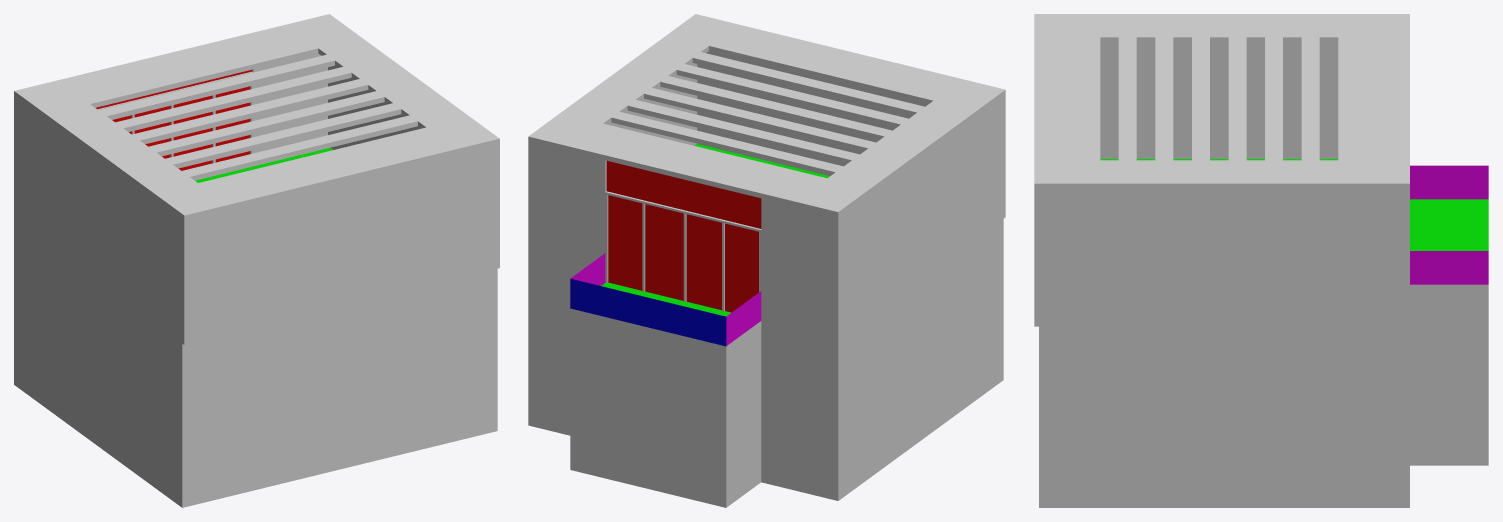
File: Garage.fbx
The picture shows the model from 3 angles, left to right: view 1: azimuth 30°, elevation 25°; view 2: azimuth 150°, elevation 25°; view 3: azimuth 270°, elevation 25°; orthographic projection. The views are drawn at different scales.
Parts seen in each view (by area): view 1: polySurface2, polySurface1, pCube19, pCube1, pCube21, pCube5, pCube2; view 2: polySurface2, polySurface1, pCube1, pCube21, pCube4, pCube5, pCube20, pCube19, pCube2, pCube11; view 3: polySurface2, pCube2, polySurface1, pCube1, pCube20, pCube19, pCube5.
Boxes of the visible parts, x1=… form: polySurface2: x1=14, y1=148, x2=497, y2=507; polySurface1: x1=14, y1=14, x2=497, y2=218; pCube19: x1=182, y1=137, x2=499, y2=344; pCube1: x1=16, y1=98, x2=185, y2=346; pCube21: x1=96, y1=69, x2=252, y2=170; pCube5: x1=252, y1=53, x2=327, y2=153; pCube2: x1=328, y1=65, x2=420, y2=149; polySurface2: x1=528, y1=144, x2=1003, y2=507; polySurface1: x1=528, y1=15, x2=1003, y2=216; pCube1: x1=840, y1=90, x2=1003, y2=337; pCube21: x1=606, y1=161, x2=761, y2=312; pCube4: x1=761, y1=198, x2=840, y2=343; pCube5: x1=528, y1=141, x2=606, y2=275; pCube20: x1=570, y1=253, x2=761, y2=346; pCube19: x1=694, y1=14, x2=1005, y2=218; pCube2: x1=608, y1=63, x2=697, y2=145; pCube11: x1=605, y1=191, x2=761, y2=232; polySurface2: x1=1039, y1=159, x2=1488, y2=507; pCube2: x1=1039, y1=189, x2=1405, y2=326; polySurface1: x1=1039, y1=14, x2=1409, y2=189; pCube1: x1=1039, y1=14, x2=1405, y2=158; pCube20: x1=1410, y1=165, x2=1488, y2=284; pCube19: x1=1034, y1=14, x2=1038, y2=326; pCube5: x1=1405, y1=189, x2=1409, y2=326.
Size of the model in its own units: 125 by 111 by 141.
